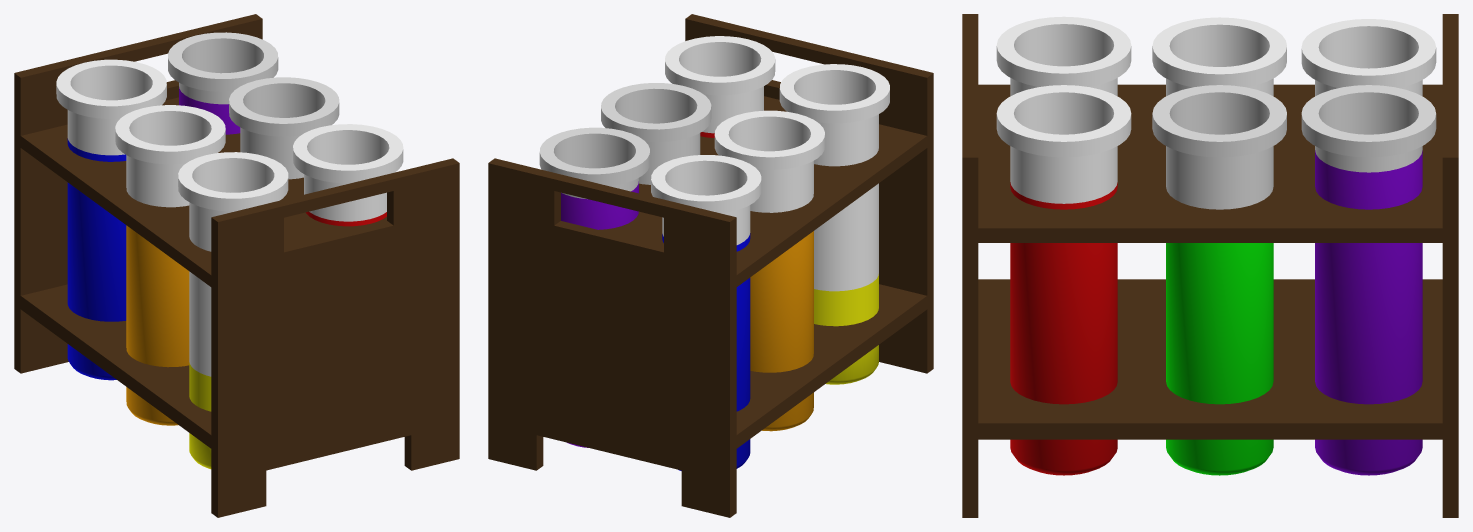
Rendered from TUBOS_COLOR.fbx.
The picture shows the model from 3 angles, left to right: view 1: azimuth 30°, elevation 25°; view 2: azimuth 150°, elevation 25°; view 3: azimuth 270°, elevation 25°; orthographic projection. The views are drawn at different scales.
Visible parts, largest first — view 1: Mitad_soporte, mitad_soporte_2, tubo de ensayo.001, tubo de ensayo, tubo de ensayo.004, tubo de ensayo.003, tubo de ensayo.005, tubo de ensayo.002; view 2: mitad_soporte_2, Mitad_soporte, tubo de ensayo.004, tubo de ensayo.001, tubo de ensayo, tubo de ensayo.002, tubo de ensayo.003, tubo de ensayo.005; view 3: mitad_soporte_2, Mitad_soporte, tubo de ensayo.002, tubo de ensayo.003, tubo de ensayo.005, tubo de ensayo.004, tubo de ensayo.001, tubo de ensayo.
Part boxes in pixels (<box>): Mitad_soporte: <box>20,97,459,517</box>; mitad_soporte_2: <box>14,14,262,449</box>; tubo de ensayo.001: <box>115,105,225,425</box>; tubo de ensayo: <box>56,59,166,380</box>; tubo de ensayo.004: <box>178,152,288,469</box>; tubo de ensayo.003: <box>293,124,403,226</box>; tubo de ensayo.005: <box>229,77,339,179</box>; tubo de ensayo.002: <box>168,32,278,134</box>; mitad_soporte_2: <box>488,158,927,517</box>; Mitad_soporte: <box>599,14,933,373</box>; tubo de ensayo.004: <box>779,64,889,384</box>; tubo de ensayo.001: <box>714,110,824,431</box>; tubo de ensayo: <box>651,155,761,470</box>; tubo de ensayo.002: <box>539,127,649,447</box>; tubo de ensayo.003: <box>665,36,775,137</box>; tubo de ensayo.005: <box>601,83,711,184</box>; mitad_soporte_2: <box>975,14,1458,517</box>; Mitad_soporte: <box>962,14,1444,517</box>; tubo de ensayo.002: <box>1301,85,1436,475</box>; tubo de ensayo.003: <box>996,85,1131,475</box>; tubo de ensayo.005: <box>1152,85,1286,475</box>; tubo de ensayo.004: <box>996,16,1131,96</box>; tubo de ensayo.001: <box>1152,17,1286,96</box>; tubo de ensayo: <box>1301,19,1436,96</box>.
Size of the model in its own units: 200 by 236 by 292.
